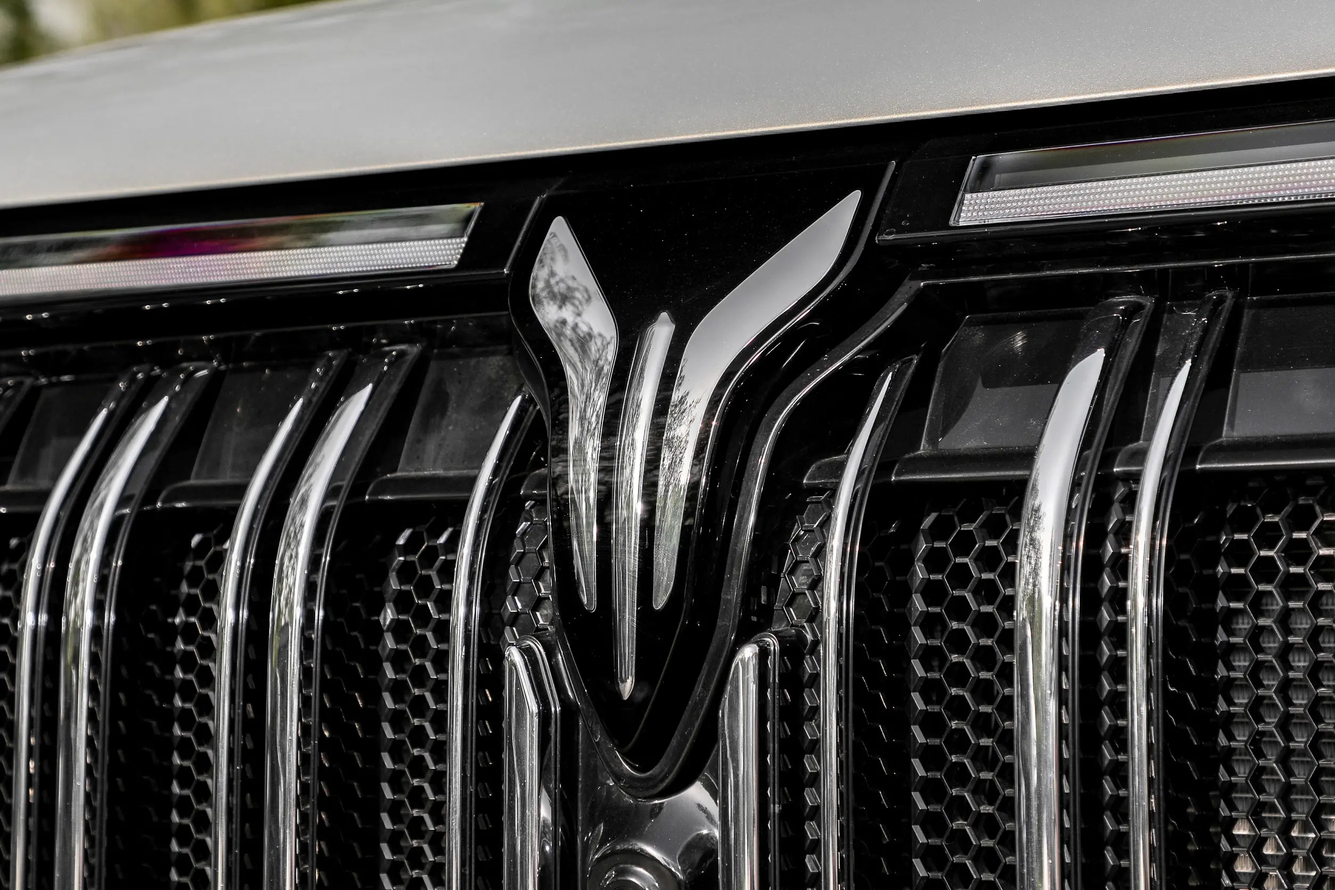VOYAH: (530, 191, 862, 697)
